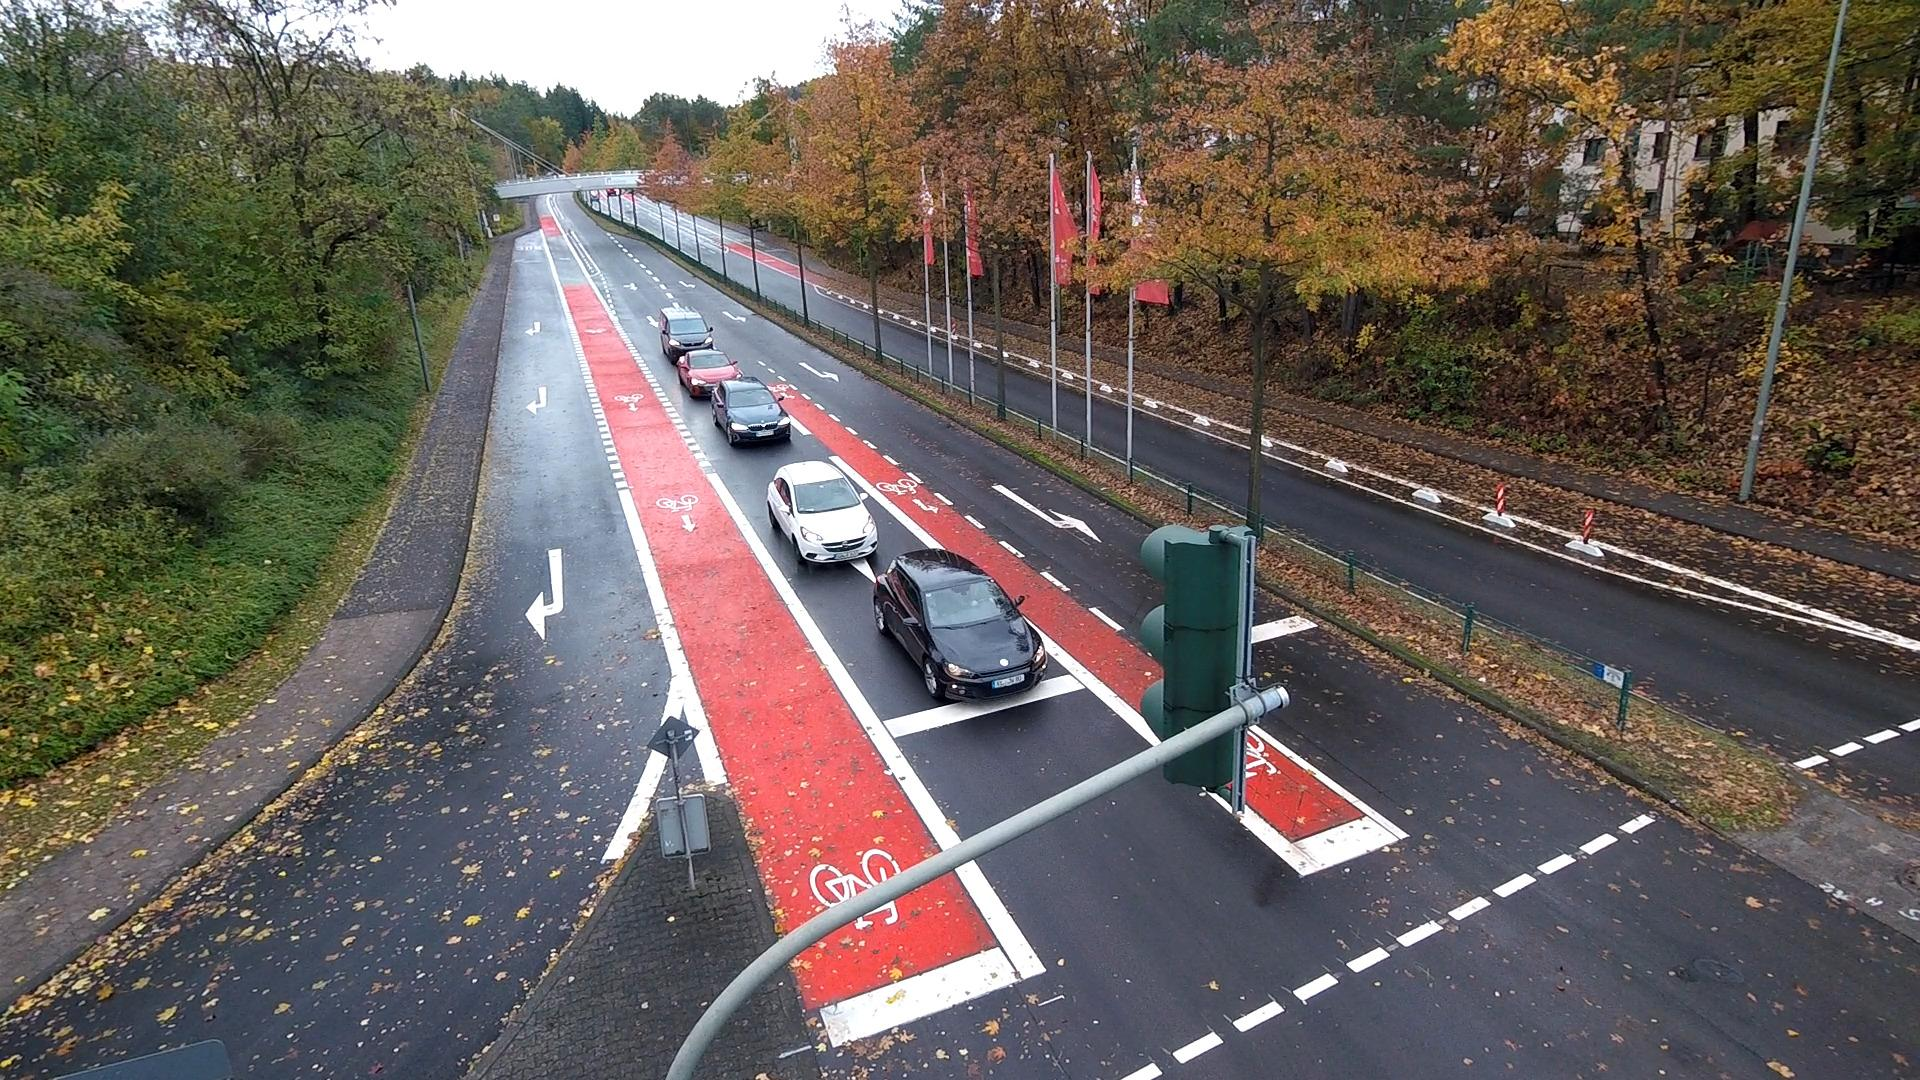bicycle-lane: (538, 195, 957, 942), (753, 363, 1166, 744), (1261, 404, 1919, 642), (786, 860, 1048, 1056), (1238, 724, 1403, 876), (1134, 368, 1249, 427), (804, 268, 872, 305), (876, 293, 928, 326), (1005, 331, 1052, 364), (756, 248, 800, 278), (1091, 356, 1126, 388), (1056, 347, 1085, 376), (723, 235, 753, 258), (975, 323, 998, 347), (696, 224, 720, 244), (634, 199, 661, 216), (930, 309, 948, 332), (951, 315, 969, 336), (662, 210, 676, 224), (680, 216, 694, 232)
car: (873, 549, 1047, 704), (766, 460, 880, 566), (711, 377, 791, 446), (659, 306, 715, 368), (676, 348, 741, 400), (591, 191, 599, 202), (607, 189, 617, 195)
car-lane: (0, 229, 687, 1080), (814, 582, 1917, 1080), (555, 193, 1164, 840), (1261, 452, 1920, 840), (1131, 406, 1250, 514), (802, 280, 877, 349), (1007, 360, 1054, 427), (880, 315, 928, 376), (754, 260, 804, 318), (1092, 393, 1127, 464), (1058, 381, 1087, 443), (676, 741, 709, 789), (754, 236, 799, 265), (973, 351, 997, 402), (725, 251, 754, 290), (698, 236, 721, 274), (637, 204, 662, 240), (931, 336, 949, 382), (953, 343, 971, 390), (678, 225, 698, 260), (724, 225, 753, 248), (662, 218, 678, 252), (695, 215, 721, 233), (622, 195, 634, 225), (611, 195, 621, 219), (599, 193, 609, 215), (676, 211, 692, 222), (593, 203, 601, 210), (662, 203, 673, 207)
